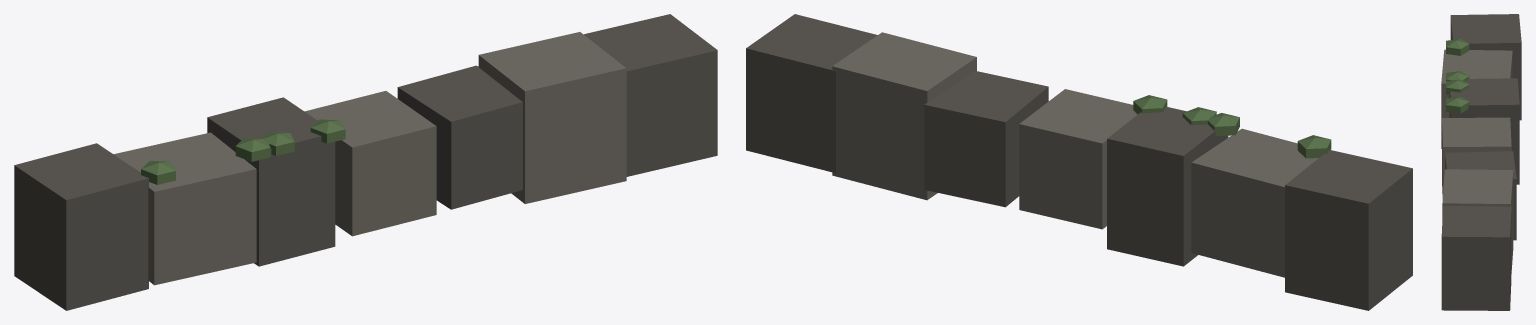
Rendered from cliff_edge_wall.glb.
The picture shows the model from 3 angles, left to right: view 1: azimuth 30°, elevation 25°; view 2: azimuth 150°, elevation 25°; view 3: azimuth 270°, elevation 25°; orthographic projection. The views are drawn at different scales.
Visible parts, largest first — view 1: cliff_edge_wall; view 2: cliff_edge_wall; view 3: cliff_edge_wall.
Part boxes in pixels (x1,y1,x2,y2): cliff_edge_wall: (14,14,717,310); cliff_edge_wall: (746,14,1412,310); cliff_edge_wall: (1441,14,1521,310).
Size of the model in its own units: 4.21 by 0.7638 by 0.6464.
